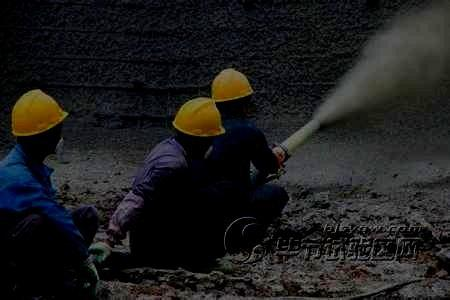helmet: (11, 88, 69, 155), (171, 97, 225, 157), (211, 67, 253, 118)
